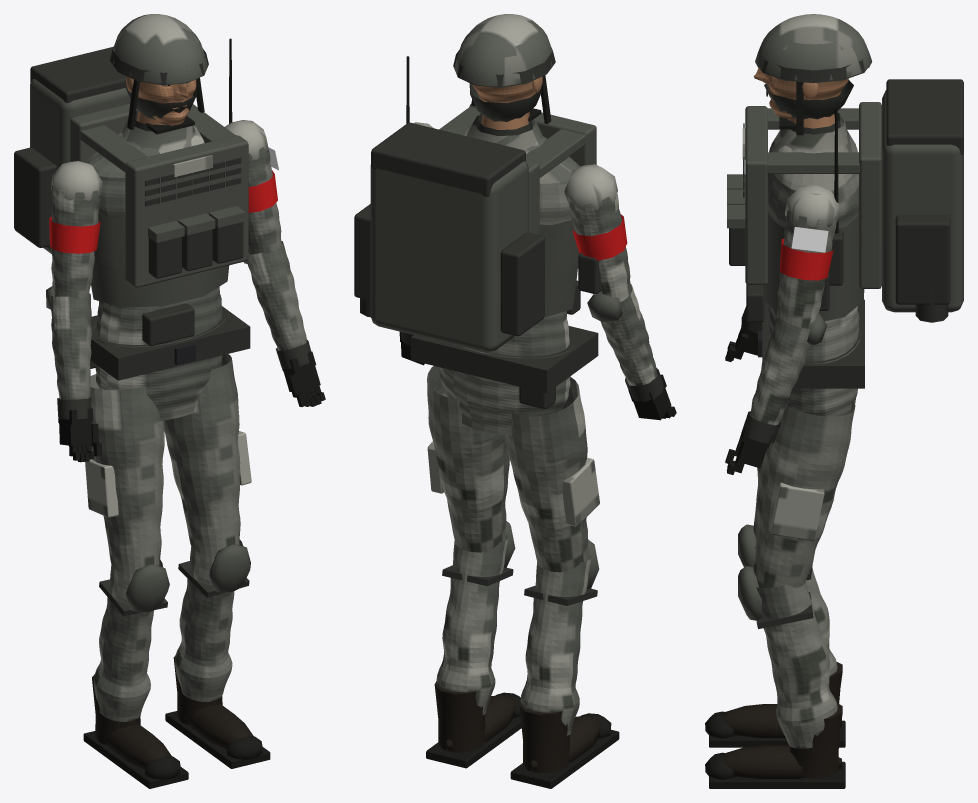
File: Soldier_1.obj
3 renders of one model, left to right at view 1: azimuth 30°, elevation 25°; view 2: azimuth 150°, elevation 25°; view 3: azimuth 270°, elevation 25°, orthographic. The views are drawn at different scales.
Parts seen in each view (by area): view 1: Thigh, Shin, FrontPlate, Forearm, UpperArm, Helmet, Belt, Pack, Pelvis, CummerbundLow, MagPouch, BootFoot (+26 smaller); view 2: Pack, Thigh, Shin, PackFlap, Belt, BootShaft, Helmet, Pelvis, PackSideR, Forearm, BootSole, UpperArm (+24 smaller); view 3: Thigh, Shin, Pack, Helmet, PackFlap, PackSideL, BackPlate, FrontPlate, BootFoot, Forearm, ChestShape, UpperArm (+27 smaller).
Part boxes in pixels (left/top/right/bottom): Thigh: left=89, top=354, right=240, bottom=577; Shin: left=94, top=539, right=242, bottom=721; FrontPlate: left=125, top=135, right=248, bottom=287; Forearm: left=50, top=241, right=306, bottom=399; UpperArm: left=51, top=147, right=281, bottom=298; Helmet: left=113, top=14, right=207, bottom=83; Belt: left=90, top=306, right=250, bottom=380; Pack: left=30, top=79, right=130, bottom=253; Pelvis: left=92, top=308, right=226, bottom=420; CummerbundLow: left=91, top=262, right=229, bottom=307; MagPouch: left=148, top=222, right=243, bottom=278; BootFoot: left=107, top=704, right=253, bottom=769; Pack: left=370, top=161, right=528, bottom=351; Thigh: left=427, top=366, right=588, bottom=572; Shin: left=436, top=535, right=591, bottom=735; PackFlap: left=371, top=122, right=525, bottom=196; Belt: left=410, top=325, right=598, bottom=393; BootShaft: left=434, top=681, right=569, bottom=773; Helmet: left=454, top=14, right=552, bottom=86; Pelvis: left=439, top=335, right=573, bottom=435; PackSideR: left=500, top=232, right=544, bottom=336; Forearm: left=593, top=283, right=657, bottom=386; BootSole: left=426, top=716, right=619, bottom=788; UpperArm: left=569, top=187, right=631, bottom=302; Thigh: left=753, top=401, right=855, bottom=587; Shin: left=754, top=546, right=837, bottom=748; Pack: left=882, top=90, right=963, bottom=312; Helmet: left=755, top=14, right=872, bottom=80; PackFlap: left=886, top=79, right=963, bottom=154; PackSideL: left=895, top=215, right=950, bottom=304; BackPlate: left=859, top=102, right=881, bottom=288; FrontPlate: left=745, top=106, right=767, bottom=284; BootFoot: left=720, top=704, right=841, bottom=778; Forearm: left=749, top=317, right=810, bottom=425; ChestShape: left=768, top=124, right=858, bottom=228; UpperArm: left=777, top=209, right=836, bottom=328.
Size of the model in its own units: 0.6572 by 1.8 by 0.5683.
90 materials, 18 textured.
